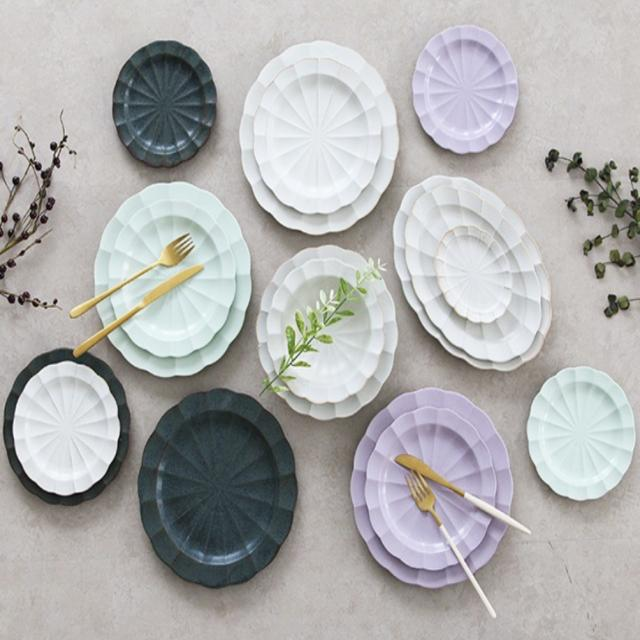recyclable: (123, 375, 305, 600), (343, 382, 522, 594), (232, 32, 406, 244), (389, 165, 558, 374), (88, 182, 254, 382), (248, 239, 404, 424), (2, 344, 134, 508), (514, 356, 640, 511), (103, 28, 227, 175), (405, 13, 527, 160)
